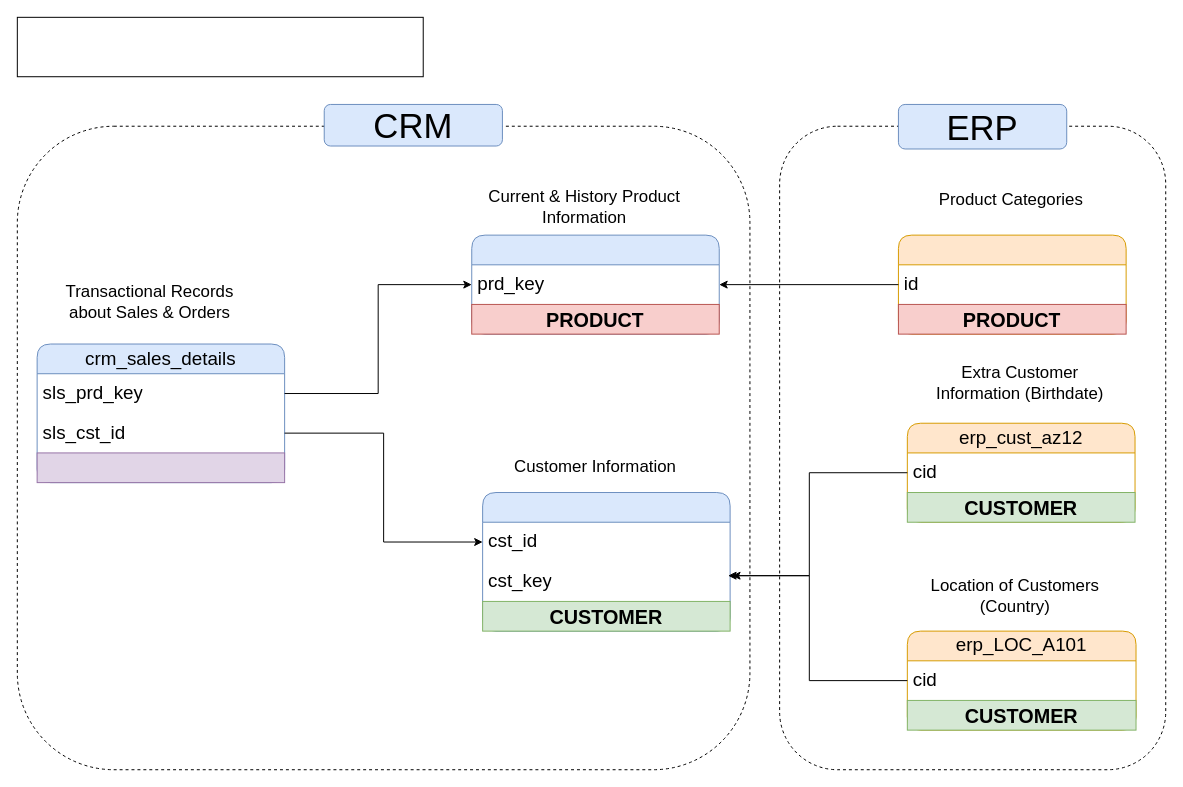
The diagram is 1183 pixels wide and 787 high, and some of its shapes have lost their labels. Here are the shapes that lost their labels. From the top down, the box of each, then its label:
(16, 16, 423, 77): Integration Model (how the loaded tables are related)
(471, 234, 719, 334): crm_prd_info
(897, 234, 1126, 334): erp_PX_CAT_G1V2
(36, 452, 285, 483): SALES
(482, 492, 730, 631): crm_cust_info
